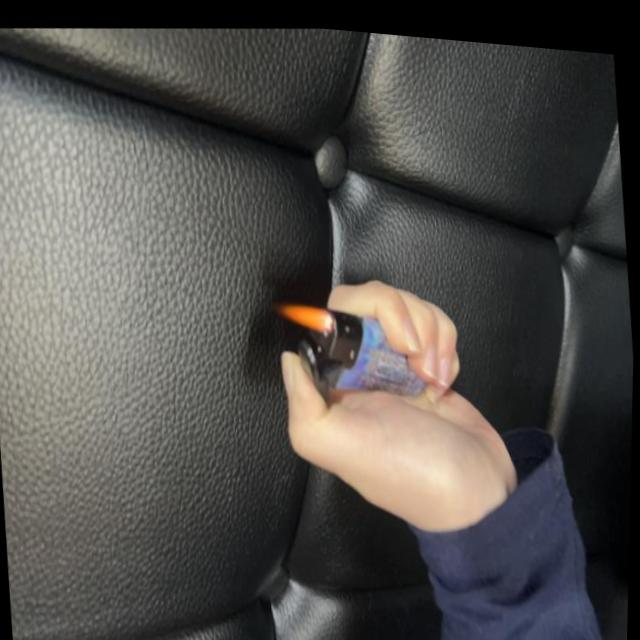Fire: (280, 292, 334, 335)
